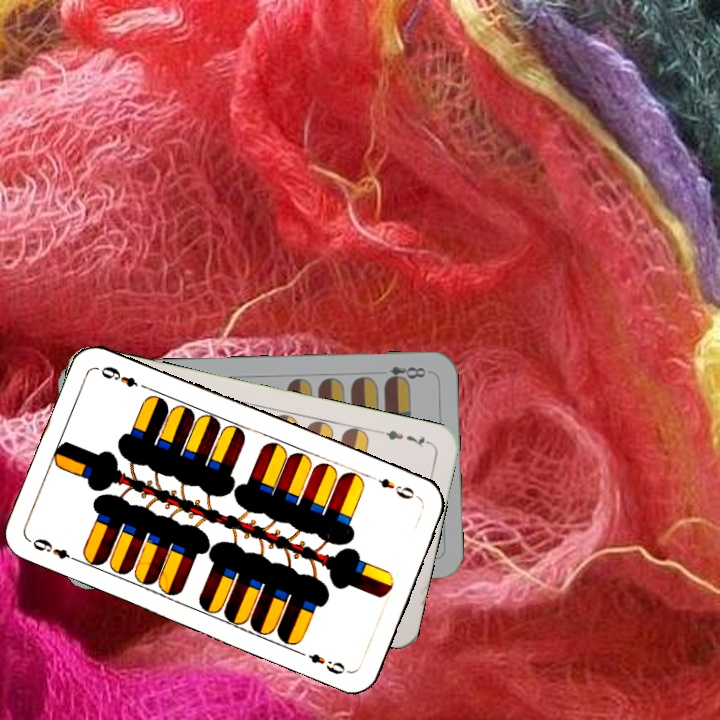E7: (375, 426, 434, 451)
E8: (381, 362, 432, 386)
E9: (26, 534, 83, 565), (374, 474, 422, 502)
